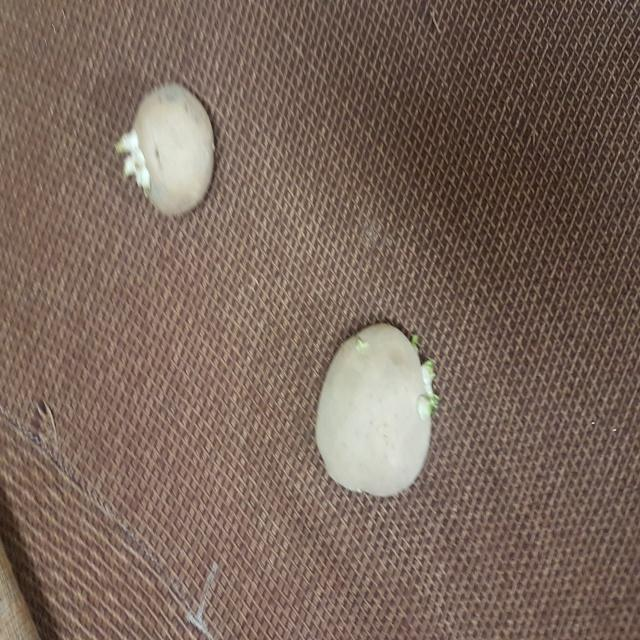potato: (312, 316, 441, 499), (119, 80, 221, 214)
